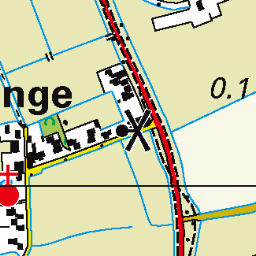church: (1, 163, 23, 210)
